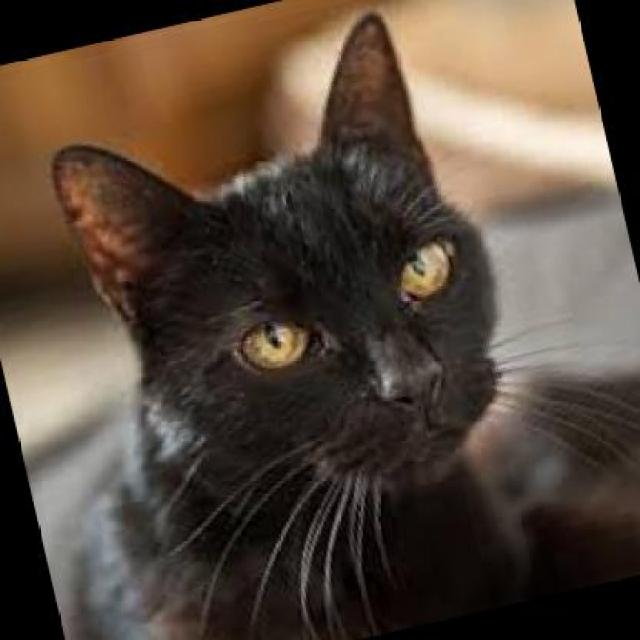animals: (6, 0, 638, 638)
